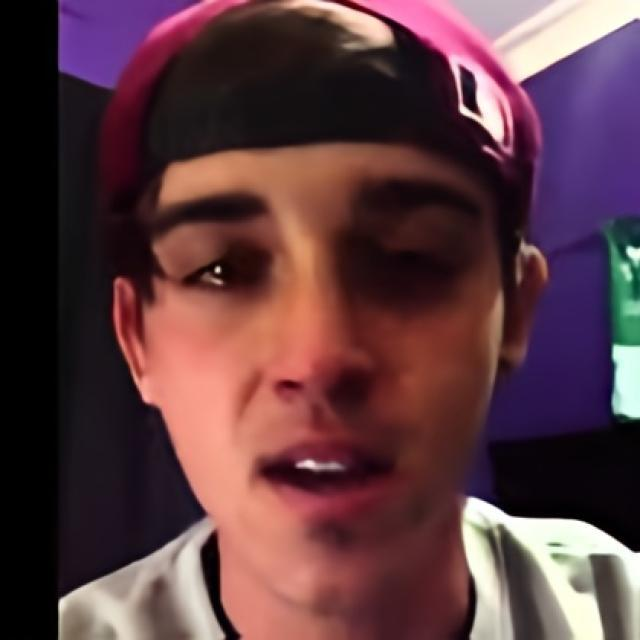sad: (141, 138, 504, 612)
